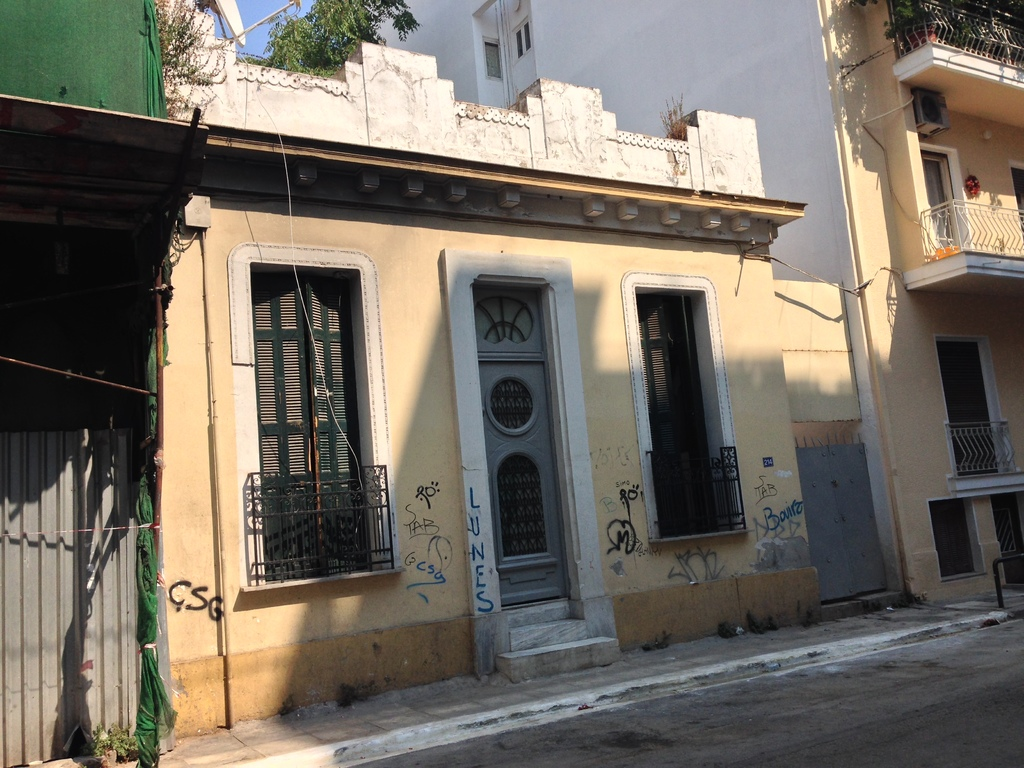door: (482, 309, 546, 588)
